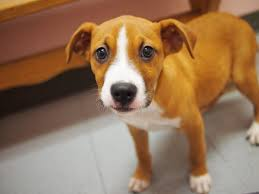dog: (91, 40, 161, 116)
